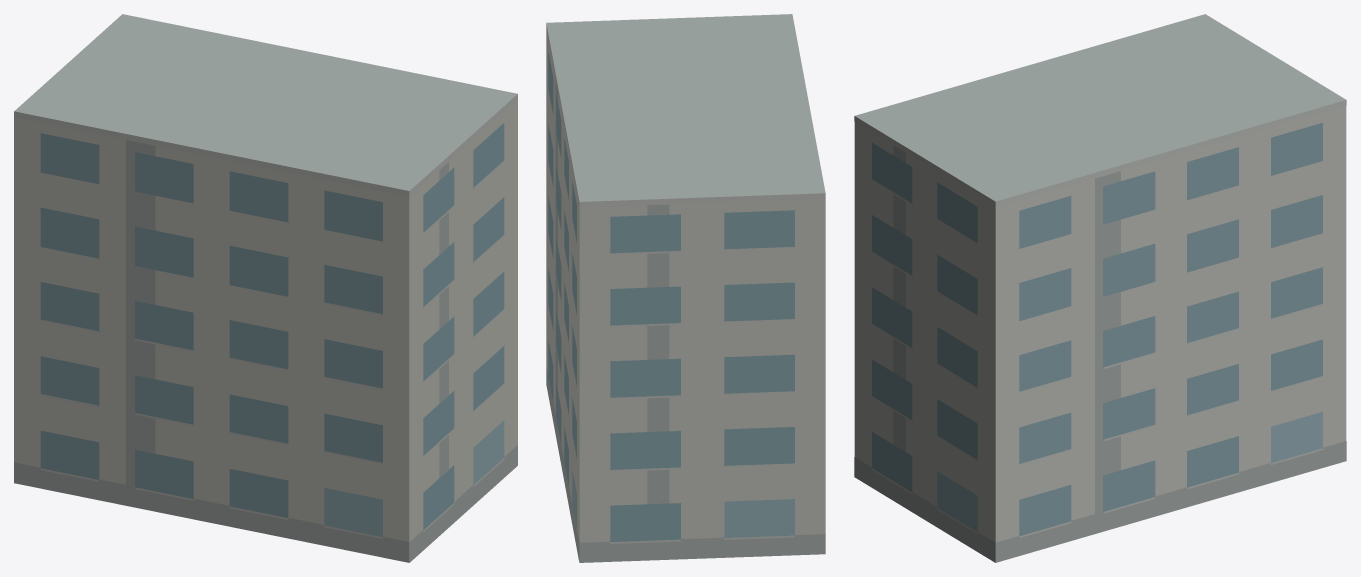
The model's file is survey-upis-32574506.glb.
The picture shows the model from 3 angles, left to right: view 1: azimuth 30°, elevation 25°; view 2: azimuth 150°, elevation 25°; view 3: azimuth 270°, elevation 25°; orthographic projection. The views are drawn at different scales.
Visible parts, largest first — view 1: survey-upis-32574506.tmp; view 2: survey-upis-32574506.tmp; view 3: survey-upis-32574506.tmp.
Boxes of the visible parts, left/top/right/bottom form: survey-upis-32574506.tmp: left=14, top=14, right=517, bottom=562; survey-upis-32574506.tmp: left=546, top=14, right=825, bottom=562; survey-upis-32574506.tmp: left=854, top=14, right=1346, bottom=562.
Size of the model in its own units: 16.99 by 15.25 by 18.83.
